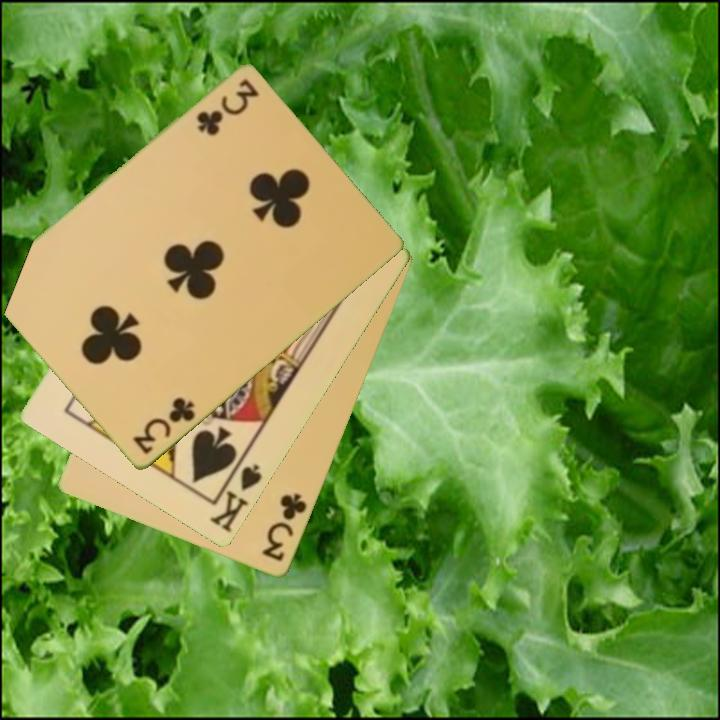3c: (129, 394, 199, 458), (193, 76, 262, 138), (259, 490, 310, 565)
Ks: (206, 452, 265, 536)
